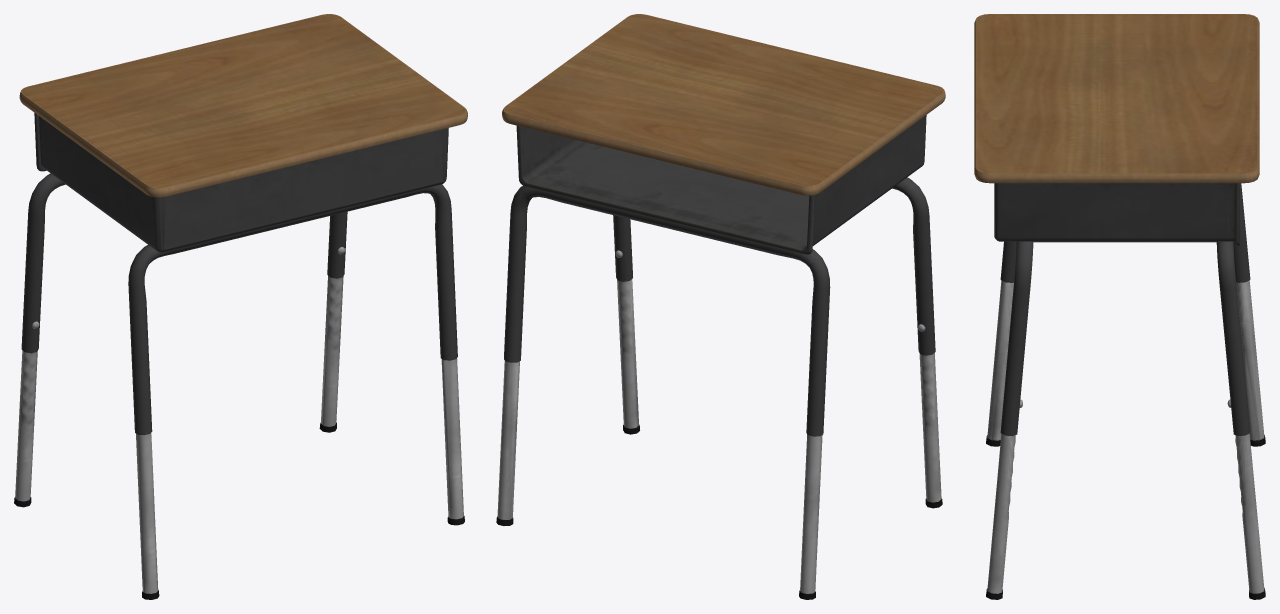
File: school_desk.glb
3 renders of one model, left to right at view 1: azimuth 30°, elevation 25°; view 2: azimuth 150°, elevation 25°; view 3: azimuth 270°, elevation 25°, orthographic. The views are drawn at different scales.
Visible parts, largest first — view 1: SchoolDesk_01; view 2: SchoolDesk_01; view 3: SchoolDesk_01.
Part boxes in pixels (x1,y1,x2,y2): SchoolDesk_01: (14,14,467,599); SchoolDesk_01: (496,14,945,599); SchoolDesk_01: (974,14,1265,599).
Bounding box in the file's own units: 0.7118 × 0.8826 × 0.546.
1 material, 1 textured.
